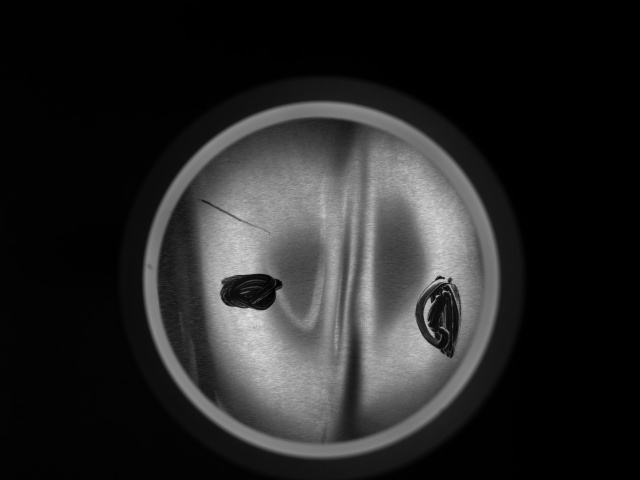ca_shang: (185, 194, 276, 236)
zang_wu: (408, 270, 459, 360), (218, 270, 295, 312)
zhe_zhou: (199, 154, 443, 406)
